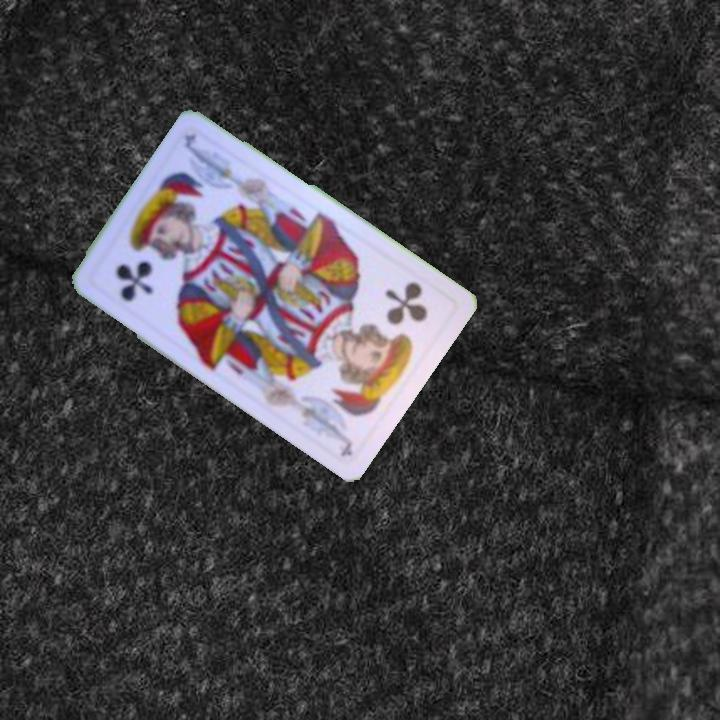c_j.png: (85, 201, 211, 330), (333, 257, 458, 386)
